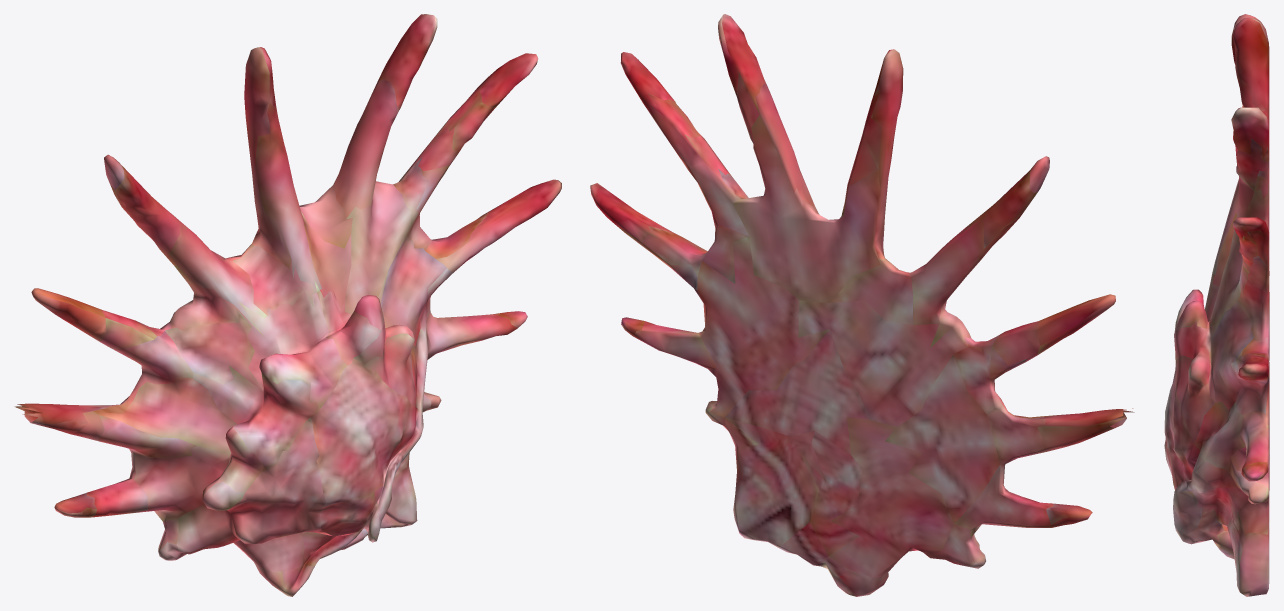
The picture shows the model from 3 angles, left to right: view 1: azimuth 30°, elevation 25°; view 2: azimuth 150°, elevation 25°; view 3: azimuth 270°, elevation 25°; orthographic projection.
Size of the model in its own units: 0.9546 by 0.9283 by 0.1617.
1 material, 1 textured.
